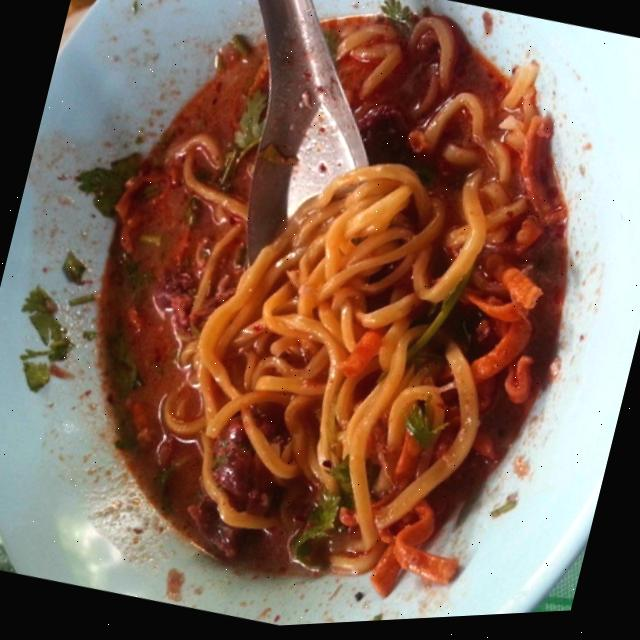面条主食: (33, 0, 640, 635)
